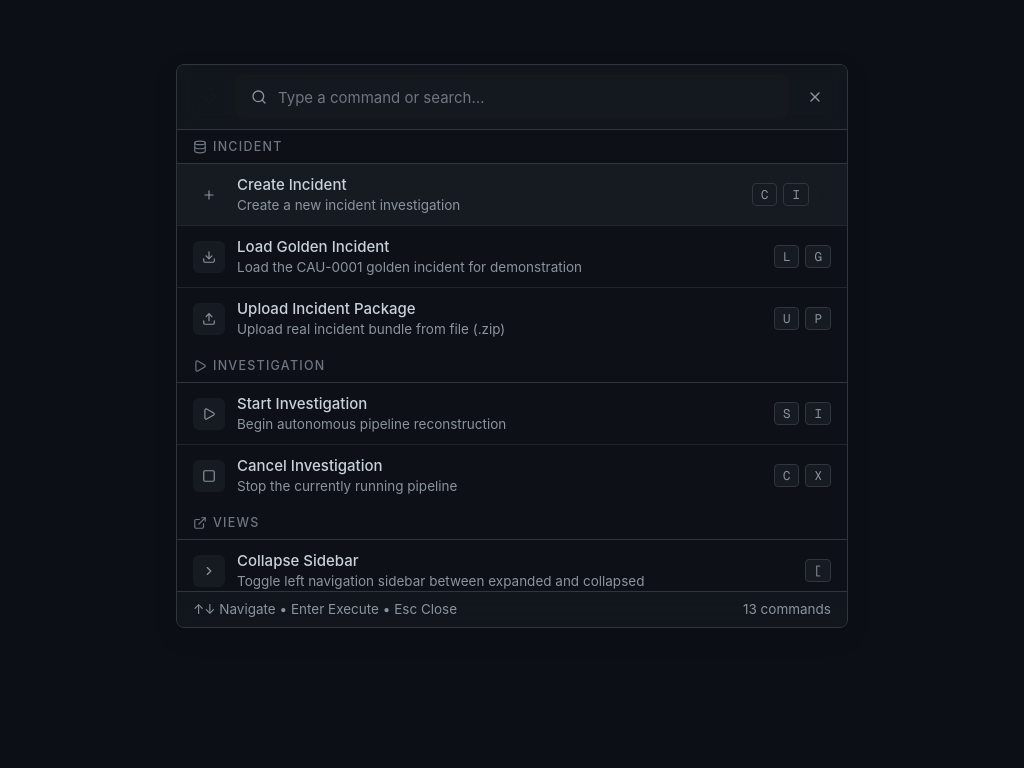
it: CommandPalette › shows no results message for non-matching query
Type "xyznonexistent" into the field with placeholder "Type a command or search…" at coordinates (512, 97), box [237,77,787,117]
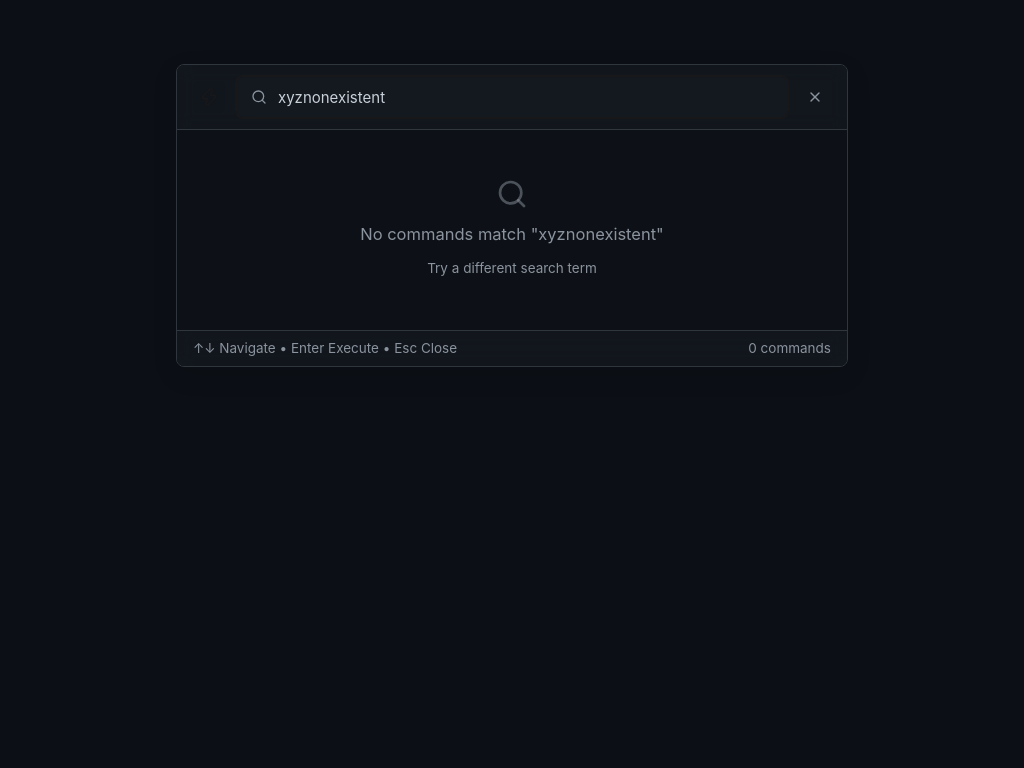
Now the text "No commands match \"xyznonexistent\"" is shown, box [360,222,664,247]
